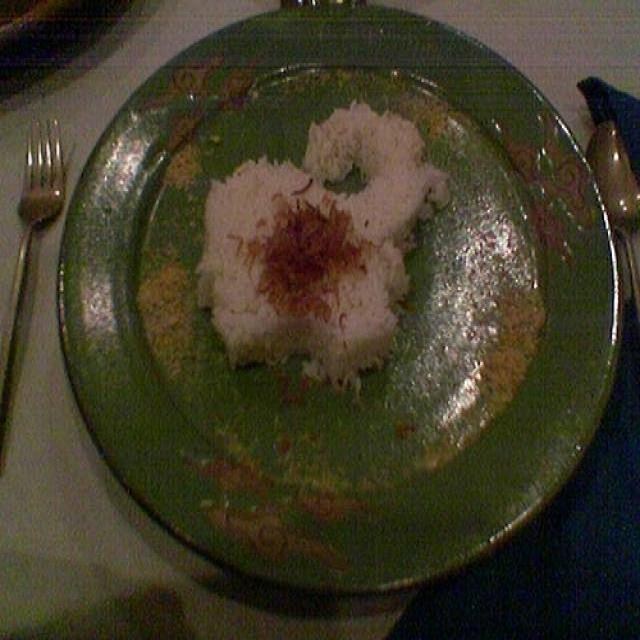米饭主食: (50, 10, 621, 599)
